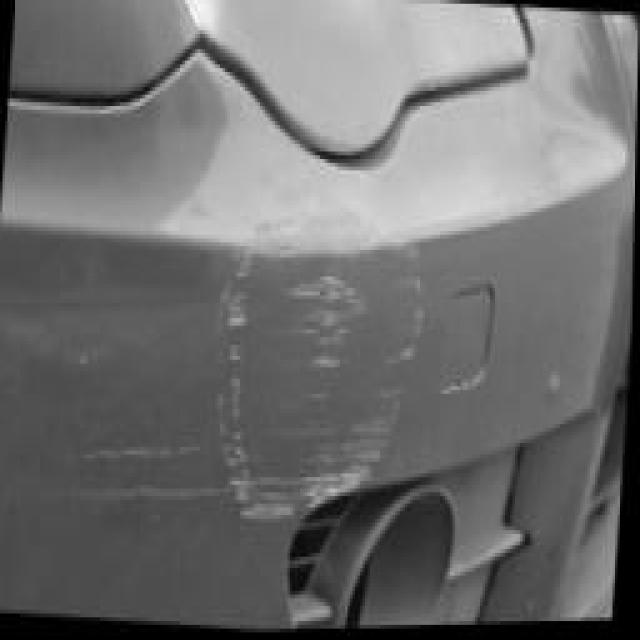Bumper: (50, 140, 461, 617)
